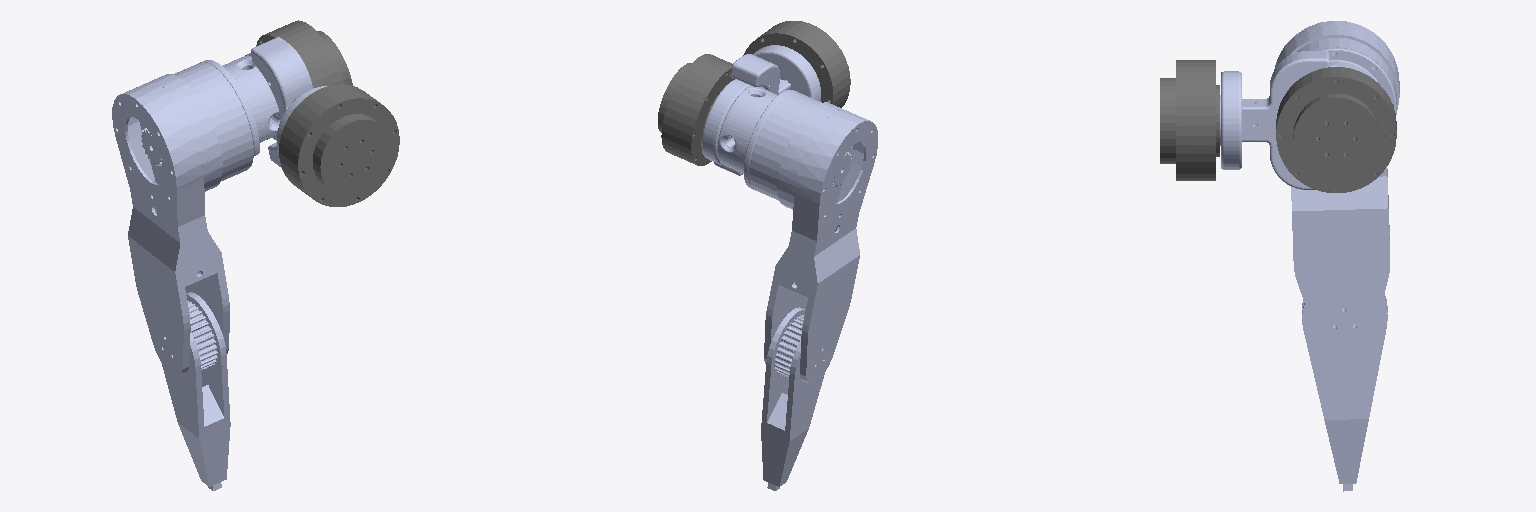
The robot description file, URDF, robot "assem12ros_29":
<?xml version="1.0" encoding="utf-8"?>
<!-- This URDF was automatically created by SolidWorks to URDF Exporter! Originally created by [author] ([email redacted]) 
     Commit Version: 1.6.0-4-g7f85cfe  Build Version: 1.6.7995.38578
     For more information, please see http://wiki.ros.org/sw_urdf_exporter -->
<robot
  name="assem12ros_29">
  <link
    name="base_link">
    <inertial>
      <origin
        xyz="1.3878E-17 0.020679 -1.3878E-17"
        rpy="0 0 0" />
      <mass
        value="0.15774" />
      <inertia
        ixx="7.3168E-05"
        ixy="-1.6941E-21"
        ixz="4.9128E-20"
        iyy="0.00011533"
        iyz="-6.5645E-21"
        izz="7.3168E-05" />
    </inertial>
    <visual>
      <origin
        xyz="0 0 0"
        rpy="0 0 0" />
      <geometry>
        <mesh
          filename="package://assem12ros_29/meshes/base_link.STL" />
      </geometry>
      <material
        name="">
        <color
          rgba="0.50196 0.50196 0.50196 1" />
      </material>
    </visual>
    <collision>
      <origin
        xyz="0 0 0"
        rpy="0 0 0" />
      <geometry>
        <mesh
          filename="package://assem12ros_29/meshes/base_link.STL" />
      </geometry>
    </collision>
  </link>
  <link
    name="l1">
    <inertial>
      <origin
        xyz="5.433E-05 0.066186 8.6703E-05"
        rpy="0 0 0" />
      <mass
        value="0.10232" />
      <inertia
        ixx="6.0533E-05"
        ixy="1.1818E-08"
        ixz="6.4494E-06"
        iyy="6.5923E-05"
        iyz="-6.4448E-08"
        izz="2.6572E-05" />
    </inertial>
    <visual>
      <origin
        xyz="0 0 0"
        rpy="0 0 0" />
      <geometry>
        <mesh
          filename="package://assem12ros_29/meshes/l1.STL" />
      </geometry>
      <material
        name="">
        <color
          rgba="0.79216 0.81961 0.93333 1" />
      </material>
    </visual>
    <collision>
      <origin
        xyz="0 0 0"
        rpy="0 0 0" />
      <geometry>
        <mesh
          filename="package://assem12ros_29/meshes/l1.STL" />
      </geometry>
    </collision>
  </link>
  <joint
    name="ji"
    type="revolute">
    <origin
      xyz="0 0 0"
      rpy="0 0 0" />
    <parent
      link="base_link" />
    <child
      link="l1" />
    <axis
      xyz="0 1 0" />
    <limit
      lower="-2"
      upper="2"
      effort="0"
      velocity="1" />
  </joint>
  <link
    name="l2">
    <inertial>
      <origin
        xyz="1.38777878078145E-17 -0.0206790113312739 0"
        rpy="0 0 0" />
      <mass
        value="0.157742086719256" />
      <inertia
        ixx="7.31681636191558E-05"
        ixy="-8.470329472543E-22"
        ixz="-3.77856103814223E-20"
        iyy="0.000115328999084835"
        iyz="5.82335151237331E-21"
        izz="7.31681636191557E-05" />
    </inertial>
    <visual>
      <origin
        xyz="0 0 0"
        rpy="0 0 0" />
      <geometry>
        <mesh
          filename="package://assem12ros_29/meshes/l2.STL" />
      </geometry>
      <material
        name="">
        <color
          rgba="0.501960784313725 0.501960784313725 0.501960784313725 1" />
      </material>
    </visual>
    <collision>
      <origin
        xyz="0 0 0"
        rpy="0 0 0" />
      <geometry>
        <mesh
          filename="package://assem12ros_29/meshes/l2.STL" />
      </geometry>
    </collision>
  </link>
  <joint
    name="j2"
    type="fixed">
    <origin
      xyz="0.047829 0.11652 0.0087348"
      rpy="0.18152 0.018467 -1.5674" />
    <parent
      link="l1" />
    <child
      link="l2" />
    <axis
      xyz="0 0 0" />
  </joint>
  <link
    name="l3">
    <inertial>
      <origin
        xyz="-0.000971901881603864 -0.0590580203272191 0.0026212835871158"
        rpy="0 0 0" />
      <mass
        value="0.116597362446432" />
      <inertia
        ixx="3.57080380905168E-05"
        ixy="-3.88567194650822E-07"
        ixz="-3.02317549550716E-06"
        iyy="6.34905346726241E-05"
        iyz="1.01240798869642E-06"
        izz="4.18068109784456E-05" />
    </inertial>
    <visual>
      <origin
        xyz="0 0 0"
        rpy="0 0 0" />
      <geometry>
        <mesh
          filename="package://assem12ros_29/meshes/l3.STL" />
      </geometry>
      <material
        name="">
        <color
          rgba="0.792156862745098 0.819607843137255 0.933333333333333 1" />
      </material>
    </visual>
    <collision>
      <origin
        xyz="0 0 0"
        rpy="0 0 0" />
      <geometry>
        <mesh
          filename="package://assem12ros_29/meshes/l3.STL" />
      </geometry>
    </collision>
  </link>
  <joint
    name="j3"
    type="revolute">
    <origin
      xyz="0 0 0"
      rpy="0 0 0" />
    <parent
      link="l2" />
    <child
      link="l3" />
    <axis
      xyz="0 -1 0" />
    <limit
      lower="-2"
      upper="2"
      effort="0"
      velocity="1" />
  </joint>
  <link
    name="l4">
    <inertial>
      <origin
        xyz="0.000132319410339397 -0.100594626238919 0.000130508876165683"
        rpy="0 0 0" />
      <mass
        value="0.179082488336875" />
      <inertia
        ixx="7.4928184422034E-05"
        ixy="-8.69972978527386E-12"
        ixz="4.79894567453247E-10"
        iyy="0.000117947580752545"
        iyz="-7.36633682184302E-12"
        izz="7.49623847900487E-05" />
    </inertial>
    <visual>
      <origin
        xyz="0 0 0"
        rpy="0 0 0" />
      <geometry>
        <mesh
          filename="package://assem12ros_29/meshes/l4.STL" />
      </geometry>
      <material
        name="">
        <color
          rgba="0.792156862745098 0.819607843137255 0.933333333333333 1" />
      </material>
    </visual>
    <collision>
      <origin
        xyz="0 0 0"
        rpy="0 0 0" />
      <geometry>
        <mesh
          filename="package://assem12ros_29/meshes/l4.STL" />
      </geometry>
    </collision>
  </link>
  <joint
    name="j4"
    type="fixed">
    <origin
      xyz="0 0 0"
      rpy="0 0 0" />
    <parent
      link="l3" />
    <child
      link="l4" />
    <axis
      xyz="0 0 0" />
  </joint>
  <link
    name="l5">
    <inertial>
      <origin
        xyz="-0.0727380517901399 0.118564659552907 -0.0782875495042798"
        rpy="0 0 0" />
      <mass
        value="0.143980559303271" />
      <inertia
        ixx="0.000598475203524328"
        ixy="-1.53654554909525E-06"
        ixz="5.16599658597293E-05"
        iyy="0.00055697224445356"
        iyz="1.58516320468509E-05"
        izz="0.000102277362814367" />
    </inertial>
    <visual>
      <origin
        xyz="0 0 0"
        rpy="0 0 0" />
      <geometry>
        <mesh
          filename="package://assem12ros_29/meshes/l5.STL" />
      </geometry>
      <material
        name="">
        <color
          rgba="0.792156862745098 0.819607843137255 0.933333333333333 1" />
      </material>
    </visual>
    <collision>
      <origin
        xyz="0 0 0"
        rpy="0 0 0" />
      <geometry>
        <mesh
          filename="package://assem12ros_29/meshes/l5.STL" />
      </geometry>
    </collision>
  </link>
  <joint
    name="j5"
    type="fixed">
    <origin
      xyz="0.1165 -0.04862 0.0022292"
      rpy="-0.019089 0.18146 1.5674" />
    <parent
      link="l4" />
    <child
      link="l5" />
    <axis
      xyz="0 0 0" />
  </joint>
  <link
    name="l6">
    <inertial>
      <origin
        xyz="2.56191534912589E-05 -0.0340260283873075 -0.0124351509094178"
        rpy="0 0 0" />
      <mass
        value="0.085455092221939" />
      <inertia
        ixx="8.86911437689624E-05"
        ixy="5.39134371862045E-08"
        ixz="5.6426741331197E-14"
        iyy="1.66062359944508E-05"
        iyz="-5.47389066263592E-12"
        izz="9.55186524677266E-05" />
    </inertial>
    <visual>
      <origin
        xyz="0 0 0"
        rpy="0 0 0" />
      <geometry>
        <mesh
          filename="package://assem12ros_29/meshes/l6.STL" />
      </geometry>
      <material
        name="">
        <color
          rgba="0.792156862745098 0.819607843137255 0.933333333333333 1" />
      </material>
    </visual>
    <collision>
      <origin
        xyz="0 0 0"
        rpy="0 0 0" />
      <geometry>
        <mesh
          filename="package://assem12ros_29/meshes/l6.STL" />
      </geometry>
    </collision>
  </link>
  <joint
    name="j6"
    type="revolute">
    <origin
      xyz="-0.048853 0.1221 -0.16748"
      rpy="1.3893 -0.017083 1.5739" />
    <parent
      link="l5" />
    <child
      link="l6" />
    <axis
      xyz="0 0 1" />
    <limit
      lower="-2"
      upper="2"
      effort="0"
      velocity="1" />
  </joint>
</robot>

--- Render facts (derived) ---
3 views of the same robot in one strip: view 1: azimuth 30°, elevation 25°; view 2: azimuth 150°, elevation 25°; view 3: azimuth 270°, elevation 25° (orthographic).
Robot: assem12ros_29 — 7 links, 6 joints (3 revolute, 3 fixed); root link base_link; default pose: every joint at zero.
Links seen in each view (by area): view 1: l5, base_link, l6, l4, l1, l3, l2; view 2: l5, l6, l2, l3, l4, base_link, l1; view 3: l5, l2, l6, base_link, l1, l3, l4.
Boxes of the visible links, bbox=[...] form: l5: bbox=[112, 74, 229, 375]; base_link: bbox=[279, 84, 399, 206]; l6: bbox=[162, 292, 230, 490]; l4: bbox=[141, 62, 253, 180]; l1: bbox=[251, 37, 326, 167]; l3: bbox=[200, 53, 280, 155]; l2: bbox=[256, 20, 352, 87]; l5: bbox=[764, 102, 877, 383]; l6: bbox=[761, 307, 824, 490]; l2: bbox=[658, 54, 734, 165]; l3: bbox=[701, 79, 796, 189]; l4: bbox=[749, 92, 852, 200]; base_link: bbox=[743, 21, 850, 107]; l1: bbox=[714, 45, 820, 175]; l5: bbox=[1274, 21, 1399, 351]; l2: bbox=[1276, 67, 1396, 192]; l6: bbox=[1302, 294, 1387, 491]; base_link: bbox=[1160, 60, 1219, 180]; l1: bbox=[1220, 51, 1329, 189]; l3: bbox=[1318, 48, 1396, 112]; l4: bbox=[1297, 38, 1396, 105].
Bounding box of the posed robot: 0.1602 × 0.1584 × 0.3351 m (x, y, z).
Meshes: 7 distinct files referenced, 7 mesh visuals loaded (7 binary STL).